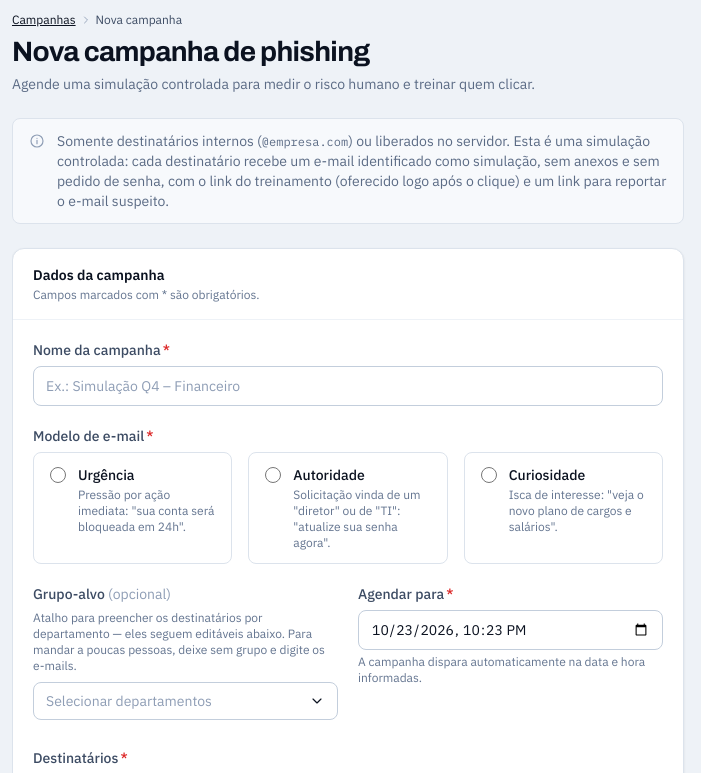
formulário de campanha por departamento (Melhorias #1 e #2) › o grupo-alvo é um dropdown: abre pelo botão, marca e fecha com Esc
Click the button "Selecionar departamentos".
click(186, 701)  # box [33, 682, 338, 720]
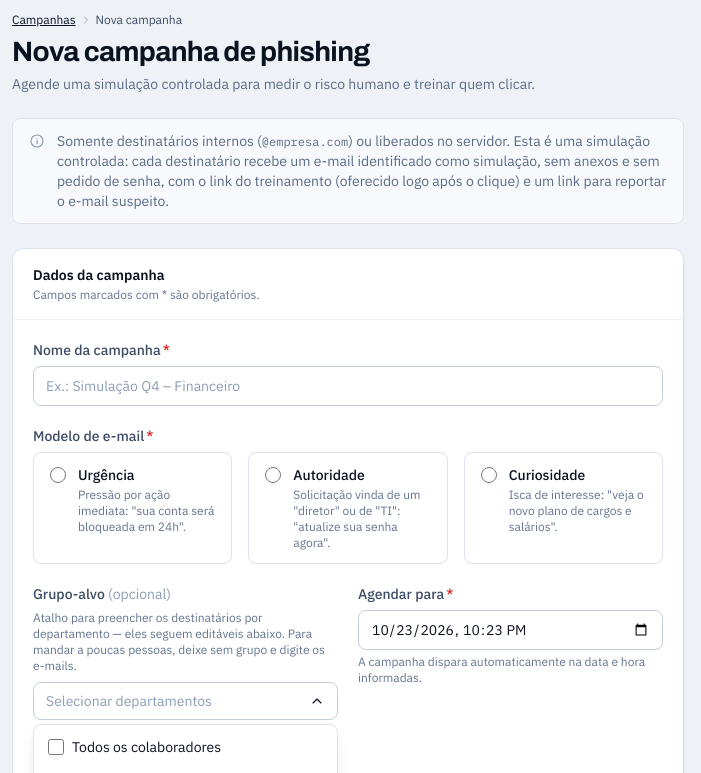
Now the button "Selecionar departamentos" is expanded, box [33, 682, 338, 720]
Press Escape
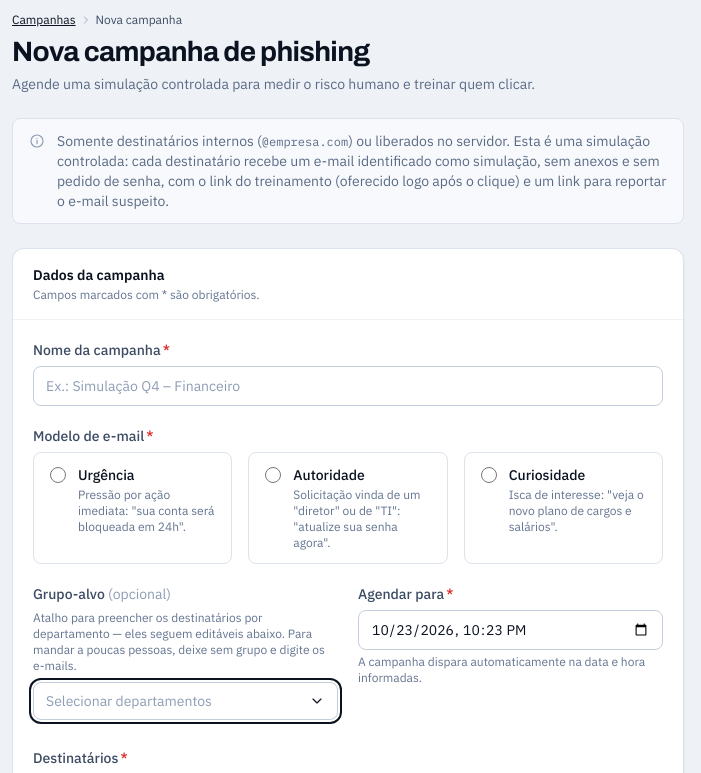
Now the checkbox is gone
